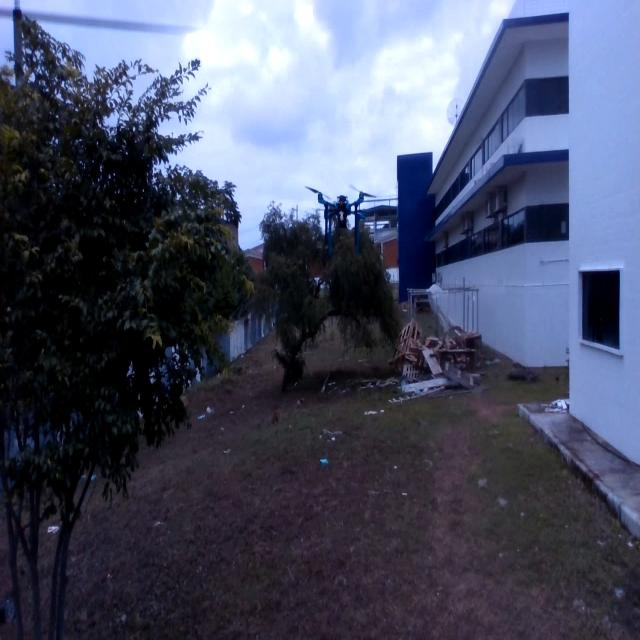-uav-: (300, 175, 381, 261)
